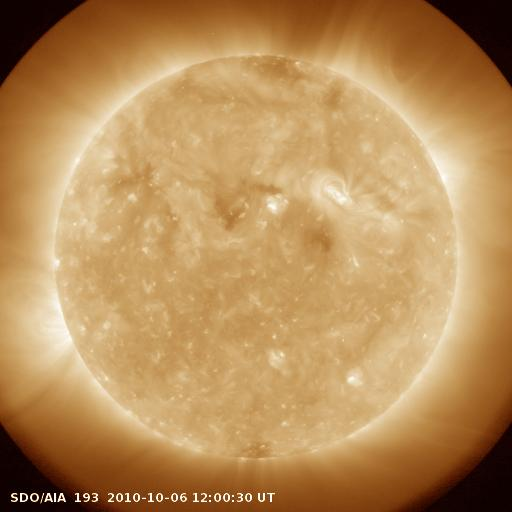coronal_hole: (215, 178, 280, 233)
